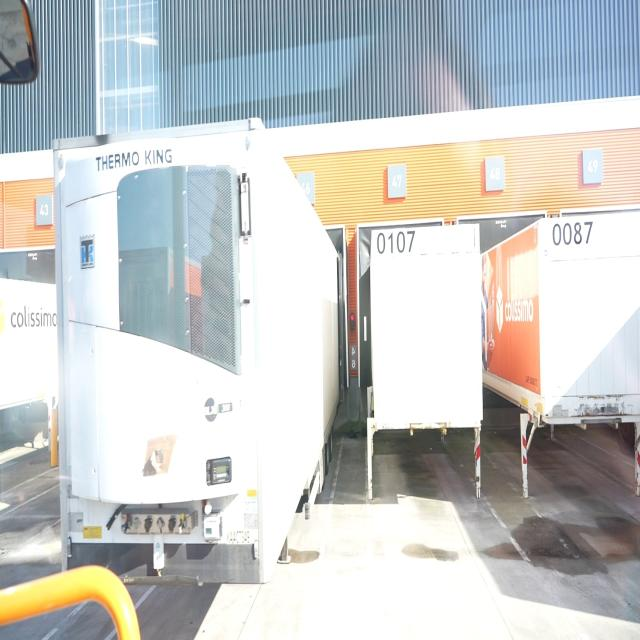Code: (550, 216, 596, 249), (375, 223, 419, 257)
